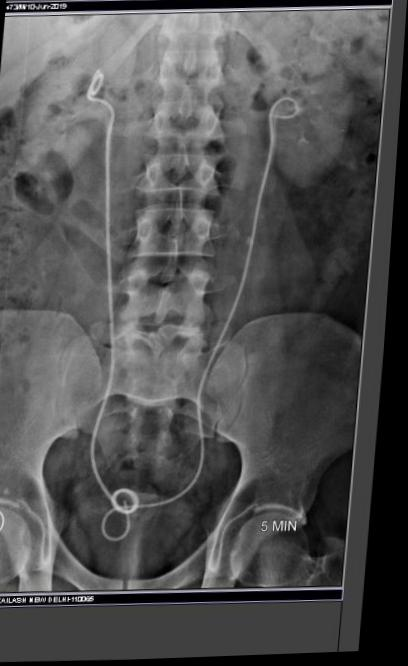vertebrae: (166, 39, 242, 100)
